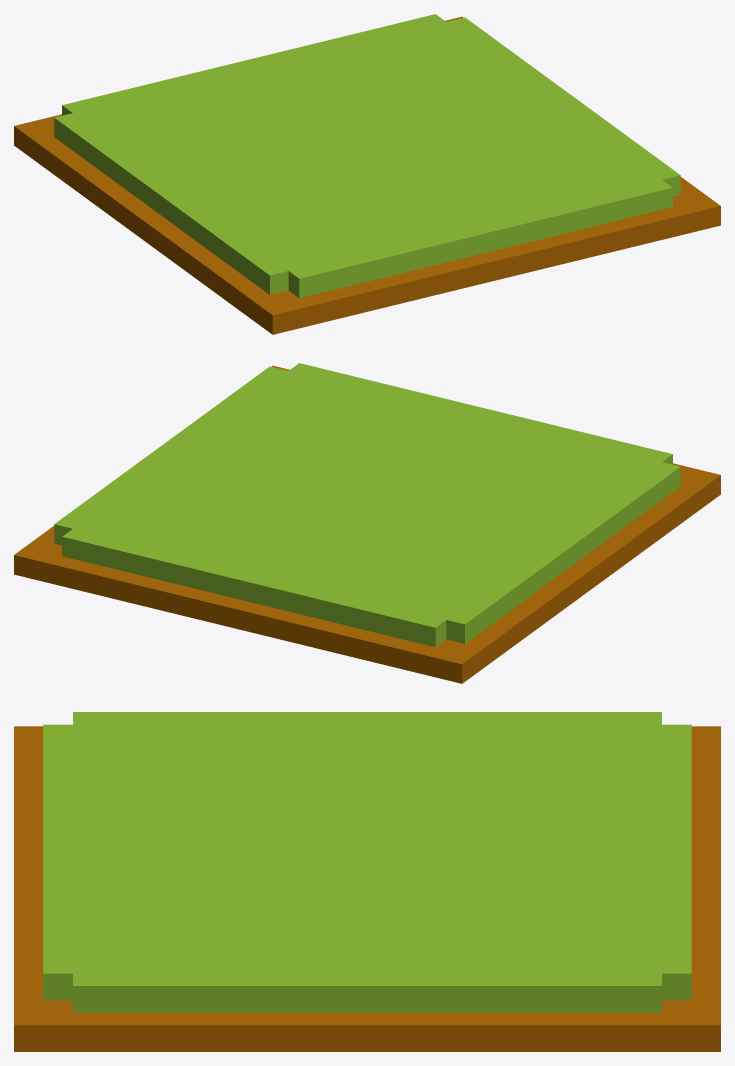
File: square4.obj
3 views of the same model, one above another, from view 1: azimuth 30°, elevation 25°; view 2: azimuth 150°, elevation 25°; view 3: azimuth 270°, elevation 25° (orthographic). The views are drawn at different scales.
Size of the model in its own units: 24 by 2 by 24.
Materials: 1 (1 with a texture image).
